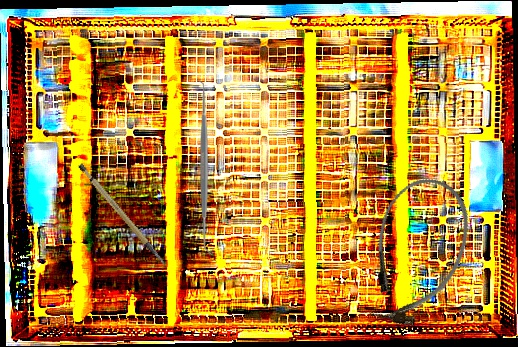Cannula: (349, 166, 485, 339)
Scalpel Handle: (76, 153, 167, 278)
Spatula Surgical: (195, 80, 214, 255)
